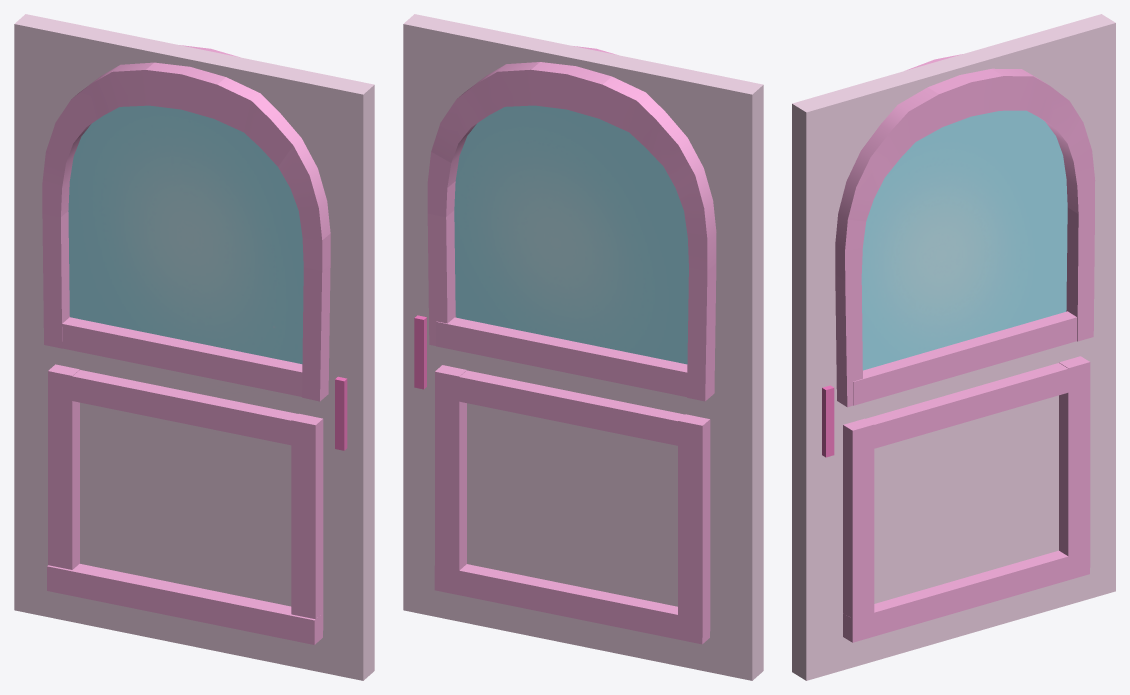
The model's file is main door.fbx.
3 renders of one model, left to right at view 1: azimuth 30°, elevation 25°; view 2: azimuth 210°, elevation 25°; view 3: azimuth 270°, elevation 25°, orthographic. The views are drawn at different scales.
Parts seen in each view (by area): view 1: Shop_Door; view 2: Shop_Door; view 3: Shop_Door.
Boxes of the visible parts, x1,y1,x2,y2 form: Shop_Door: (14, 14, 374, 680); Shop_Door: (403, 14, 763, 680); Shop_Door: (792, 14, 1115, 680).
Bounding box in the file's own units: 178 × 478 × 247.
1 material, 1 textured.
